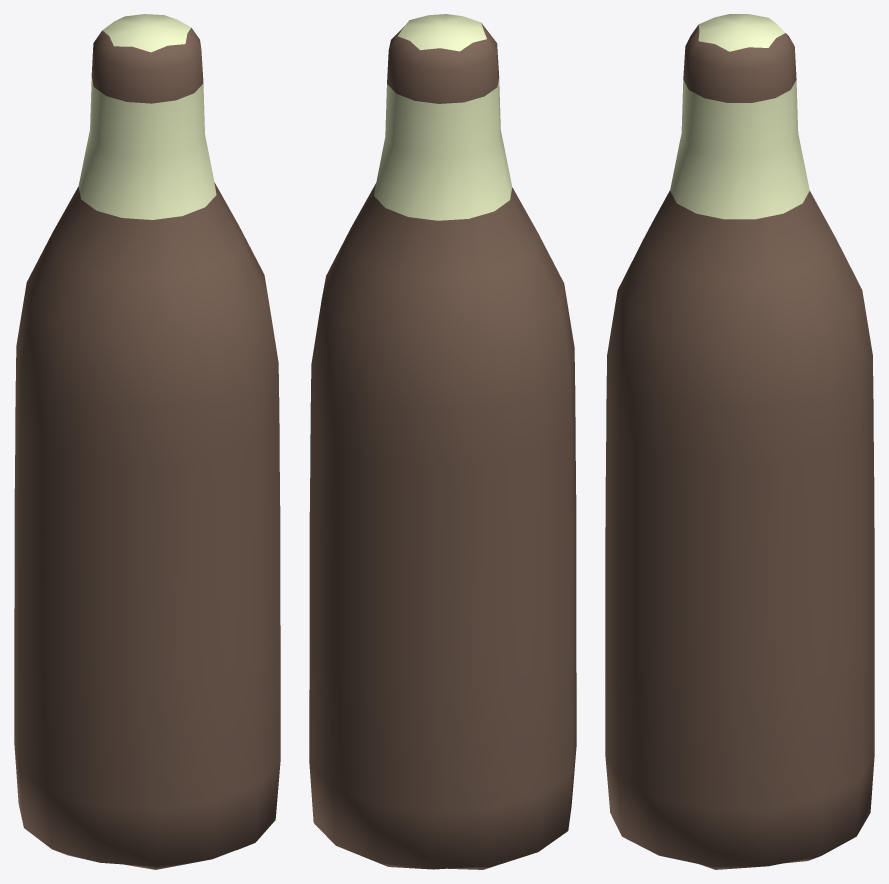
Rendered from Bottle_1.fbx.
3 views of the same model, side by side, from view 1: azimuth 30°, elevation 25°; view 2: azimuth 150°, elevation 25°; view 3: azimuth 270°, elevation 25° (orthographic).
Visible parts, largest first — view 1: Bottle_1; view 2: Bottle_1; view 3: Bottle_1.
Boxes of the visible parts, <box> form: Bottle_1: <box>14,14,280,869</box>; Bottle_1: <box>309,14,576,869</box>; Bottle_1: <box>605,14,874,869</box>.
Bounding box in the file's own units: 8.93 × 30.07 × 9.15.
